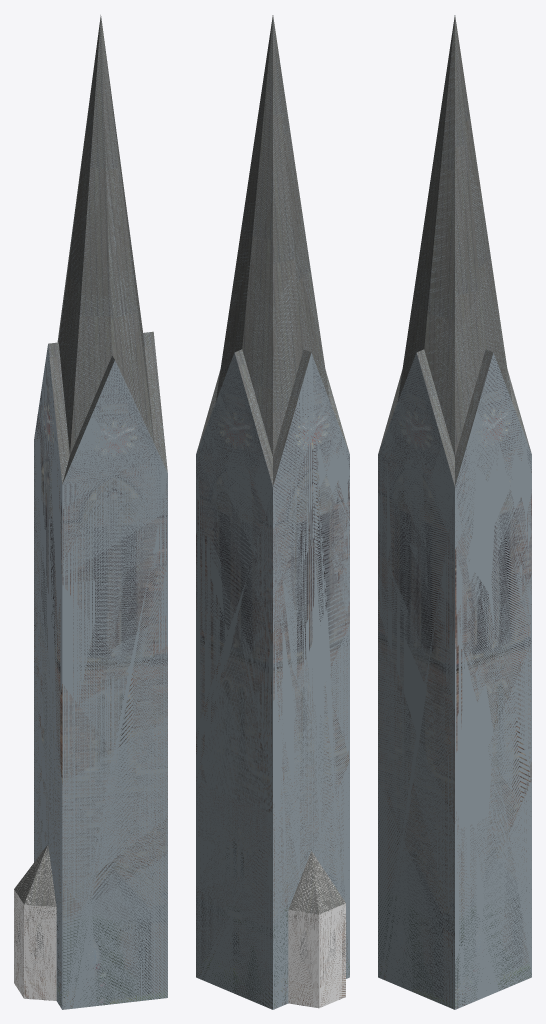
The model's file is tourModerne15.obj.
3 views of the same model, side by side, from view 1: azimuth 30°, elevation 25°; view 2: azimuth 150°, elevation 25°; view 3: azimuth 330°, elevation 25° (orthographic).
Visible parts, largest first — view 1: Mesh1 Group1 Model; view 2: Mesh1 Group1 Model; view 3: Mesh1 Group1 Model.
Boxes of the visible parts, x1,y1,x2,y2 form: Mesh1 Group1 Model: (14,15,167,1009); Mesh1 Group1 Model: (196,15,349,1009); Mesh1 Group1 Model: (378,15,531,1009).
Bounding box in the file's own units: 8.96 × 62.24 × 7.8.
